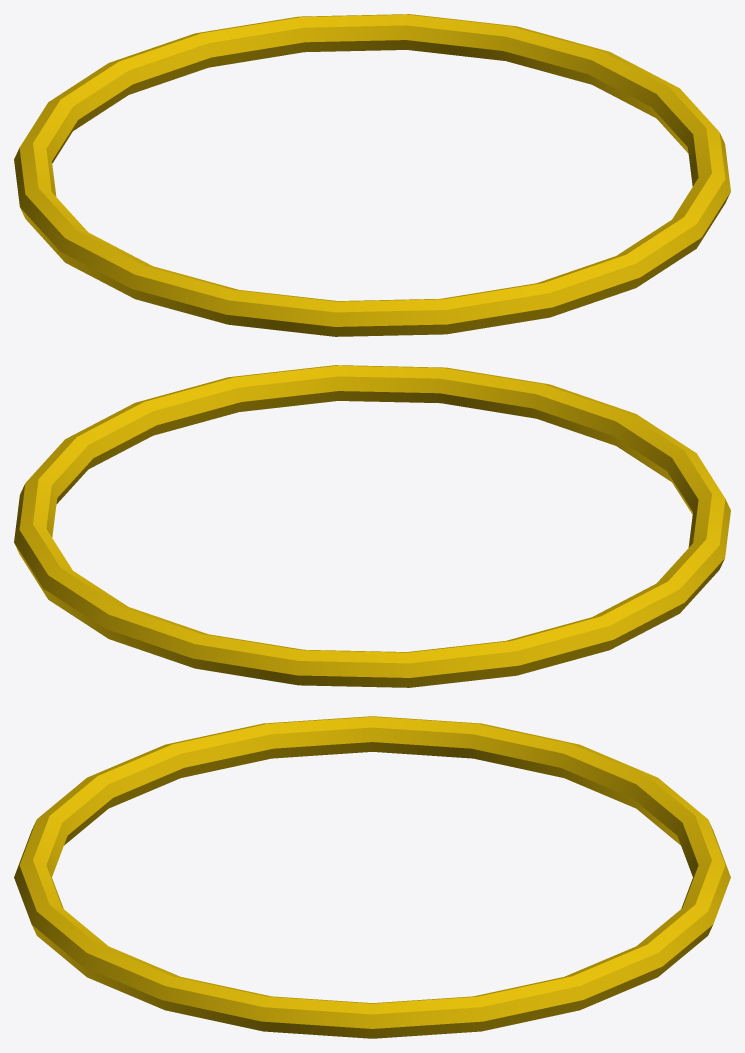
The model's file is Anel.fbx.
3 views of the same model, one above another, from view 1: azimuth 30°, elevation 25°; view 2: azimuth 150°, elevation 25°; view 3: azimuth 270°, elevation 25° (orthographic).
Parts seen in each view (by area): view 1: pTorus1; view 2: pTorus1; view 3: pTorus1.
Part boxes in pixels (x1,y1,x2,y2): pTorus1: (14, 14, 730, 336); pTorus1: (14, 365, 730, 687); pTorus1: (14, 716, 730, 1038).
Size of the model in its own units: 23.87 by 1.26 by 23.87.
